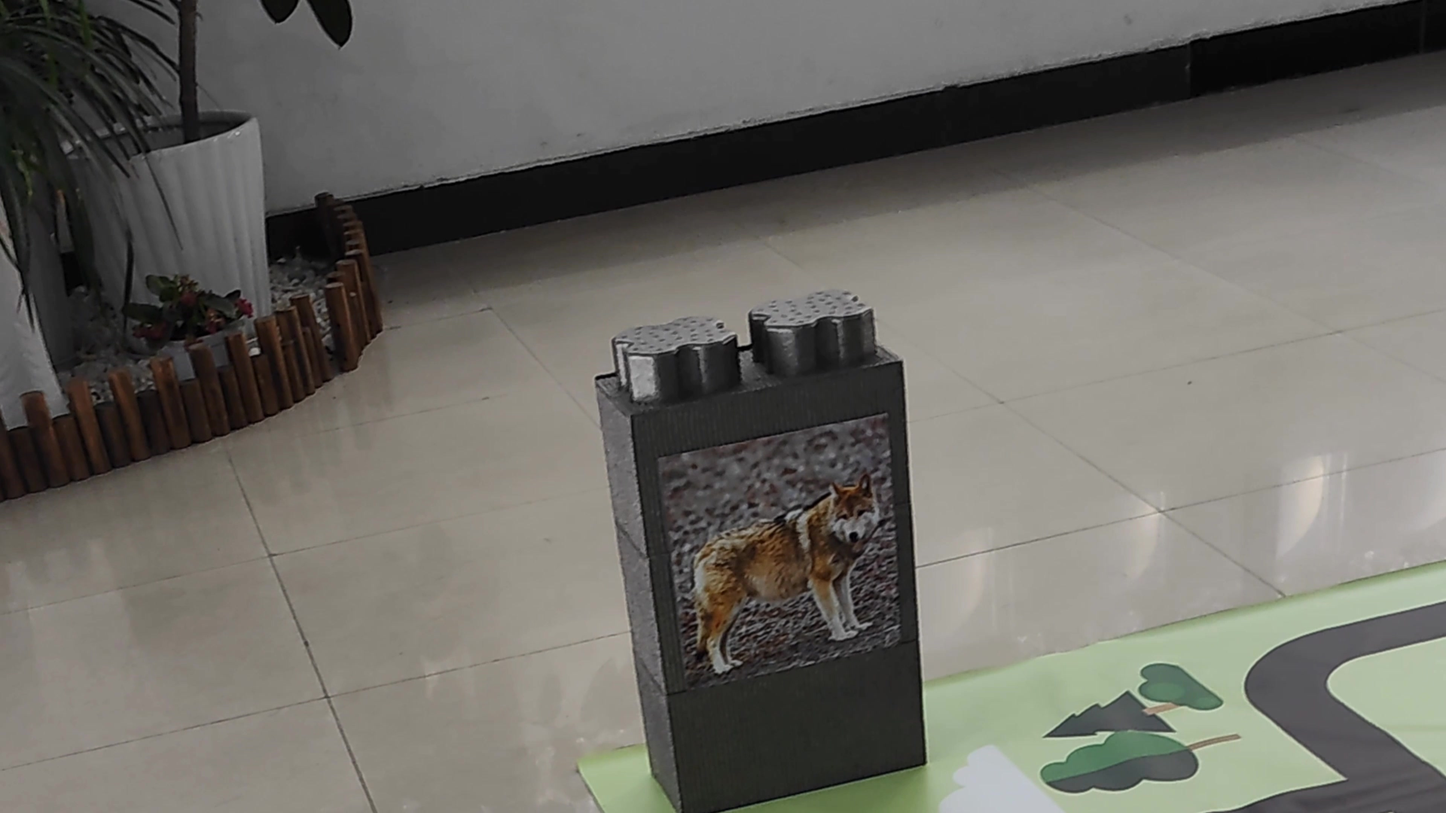wolf: (671, 439, 895, 679)
